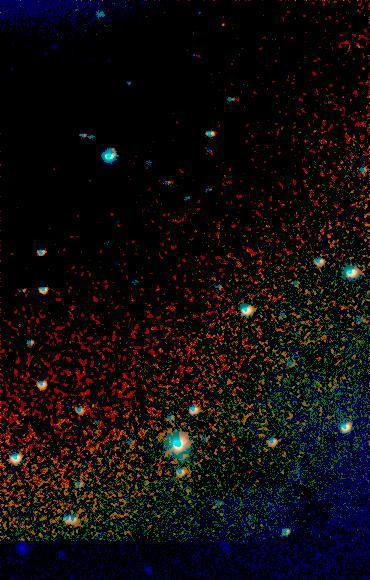star: (60, 0, 90, 26)
